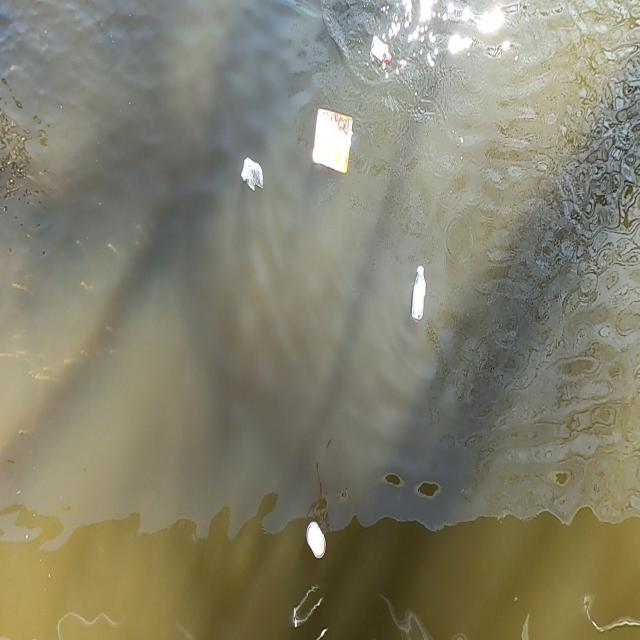Bouteille plastique: (409, 262, 430, 324), (368, 35, 395, 68)
